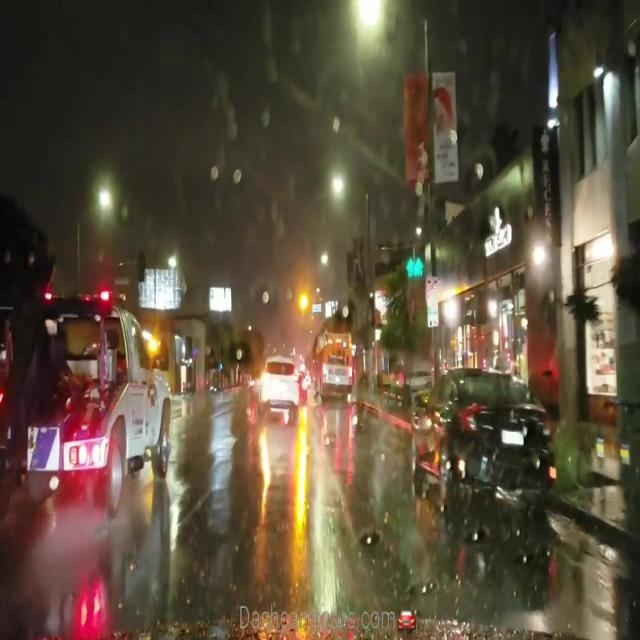Car: (410, 372, 545, 514), (257, 357, 299, 408)
